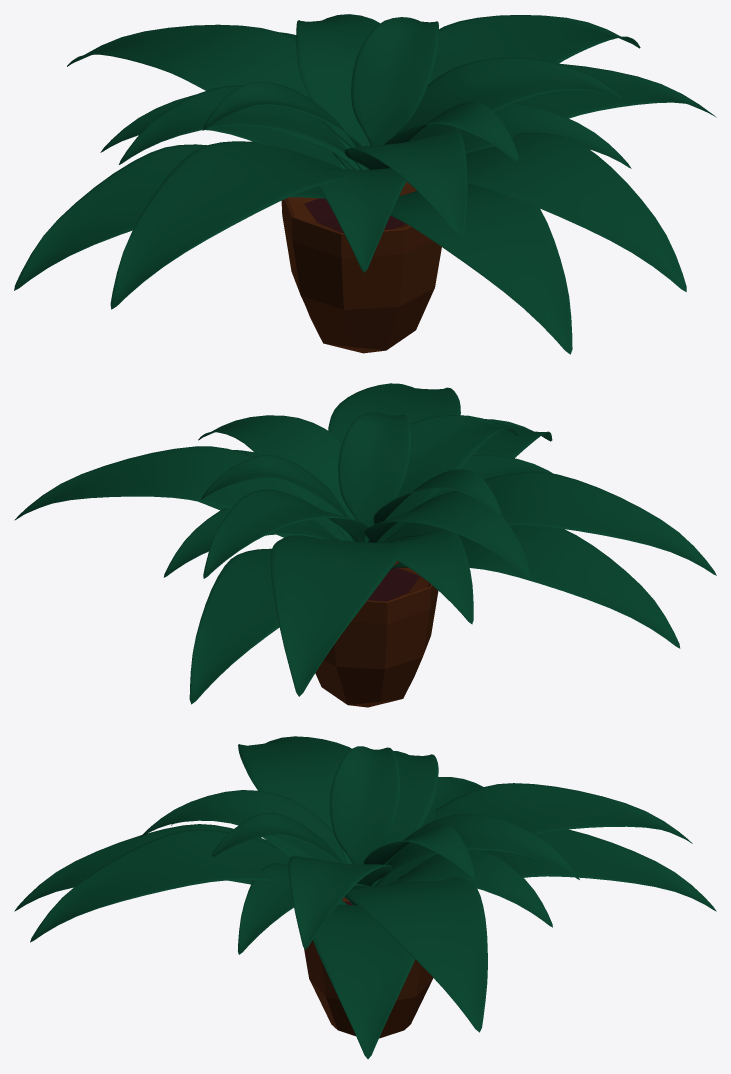
File: plantspuppet3.fbx
3 renders of one model, top to bottom at view 1: azimuth 30°, elevation 25°; view 2: azimuth 150°, elevation 25°; view 3: azimuth 270°, elevation 25°, orthographic. The views are drawn at different scales.
Parts seen in each view (by area): view 1: plant double; view 2: plant double; view 3: plant double.
Boxes of the visible parts, bbox=[...] form: plant double: bbox=[14, 14, 716, 354]; plant double: bbox=[14, 383, 716, 707]; plant double: bbox=[14, 736, 716, 1059].
Size of the model in its own units: 586 by 226 by 589.
